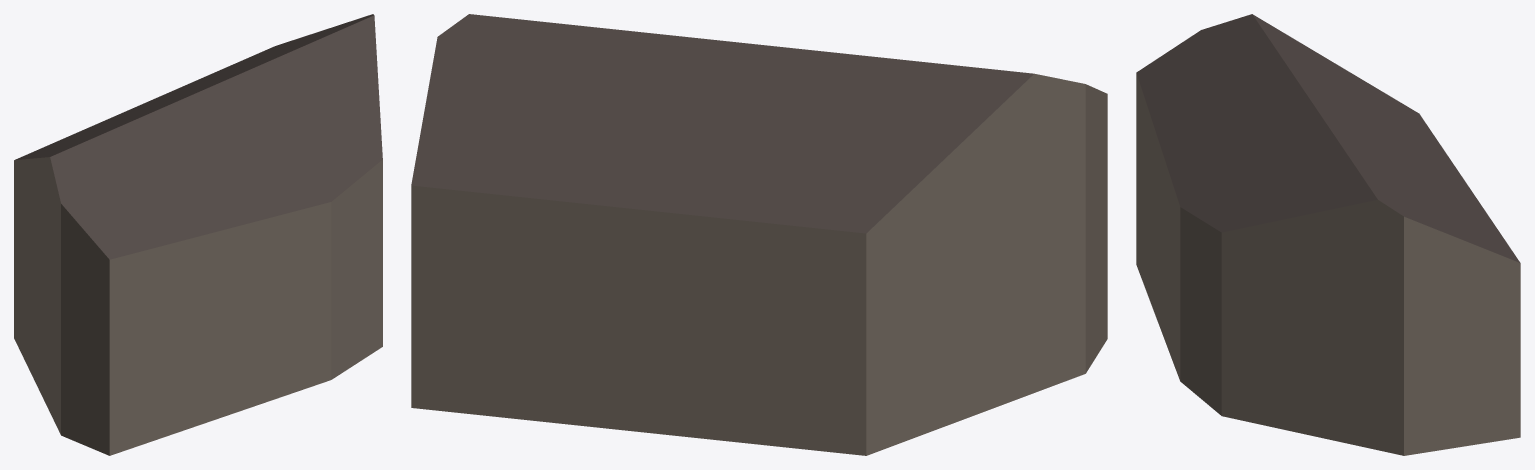
3 views of the same model, side by side, from view 1: azimuth 30°, elevation 25°; view 2: azimuth 150°, elevation 25°; view 3: azimuth 270°, elevation 25° (orthographic). The views are drawn at different scales.
Parts seen in each view (by area): view 1: HP-w756797957; view 2: HP-w756797957; view 3: HP-w756797957.
Boxes of the visible parts, x1,y1,x2,y2 form: HP-w756797957: (14, 14, 382, 455); HP-w756797957: (411, 14, 1107, 455); HP-w756797957: (1136, 14, 1520, 455).
Size of the model in its own units: 21.97 by 12.92 by 17.96.
